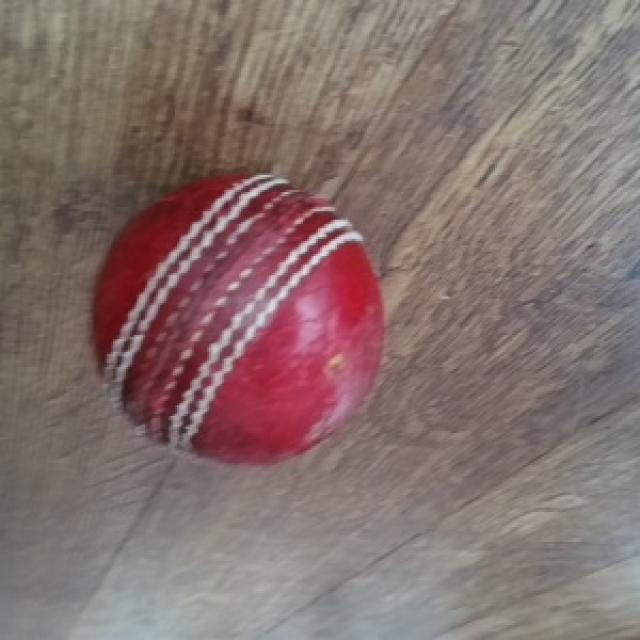ball: (90, 175, 388, 469)
